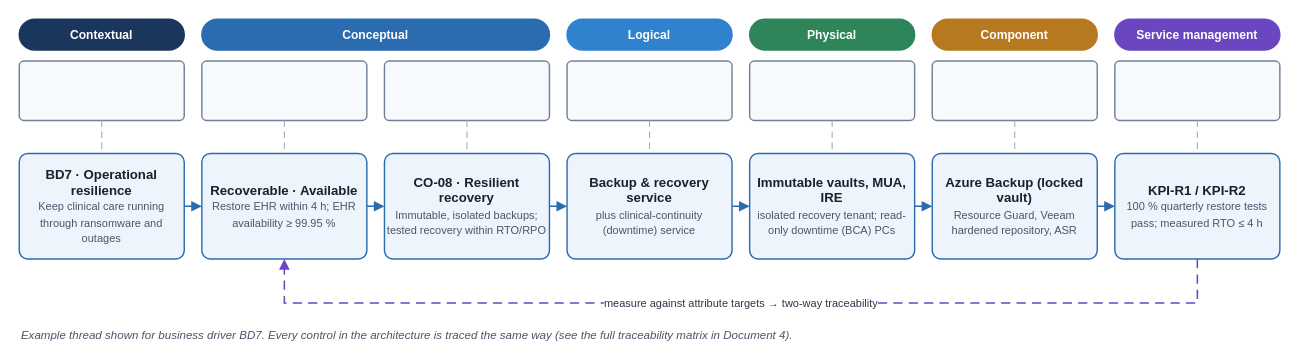
The diagram is 1300 pixels wide and 362 high, and some of its shapes have lost their labels. The shapes that lost their labels are listed below. From the top down, each one's centre as x and y in pixels, then its label:
At pixel 101 90: "Business drivers Why does the business need this?".
At pixel 284 90: "Business attributes What qualities must the business have?".
At pixel 466 90: "Control objectives What must security achieve?".
At pixel 649 90: "Security services Which logical services deliver it?".
At pixel 831 90: "Security mechanisms How is it built?".
At pixel 1014 90: "Products & tools With what exactly?".
At pixel 1197 90: "Metrics & operations How do we know it works?".
